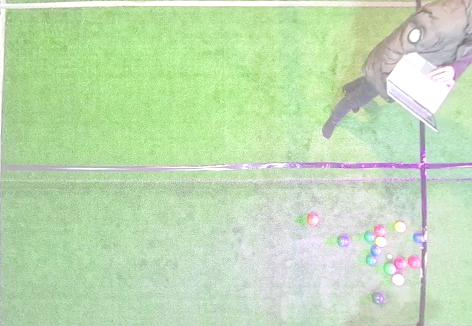blue: (413, 234, 425, 243), (371, 246, 381, 256)
green: (384, 263, 396, 276), (372, 292, 384, 304), (337, 236, 349, 247), (366, 255, 377, 266), (364, 232, 376, 242)
red: (408, 256, 421, 269), (394, 258, 407, 270), (392, 274, 404, 286), (307, 214, 319, 226), (374, 226, 386, 237)
vline: (418, 125, 471, 325), (0, 0, 8, 325)
white: (387, 254, 392, 259)
yellow: (394, 222, 406, 233), (375, 237, 387, 247)
